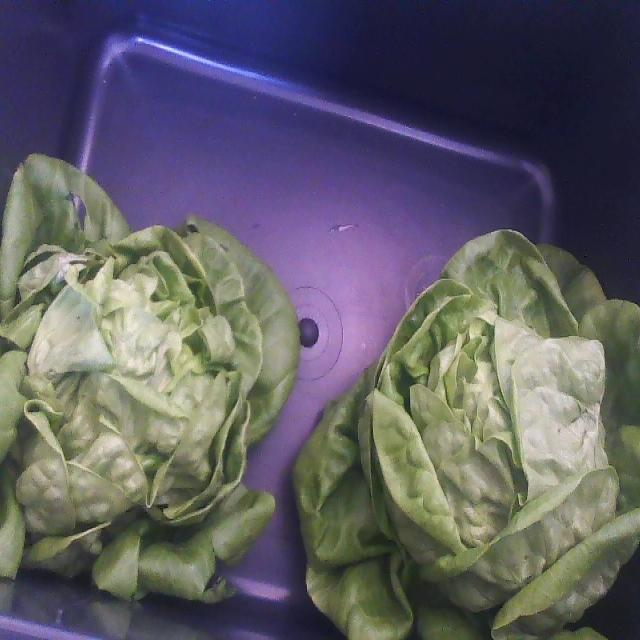lettuce: (294, 231, 639, 639), (0, 156, 299, 601)
